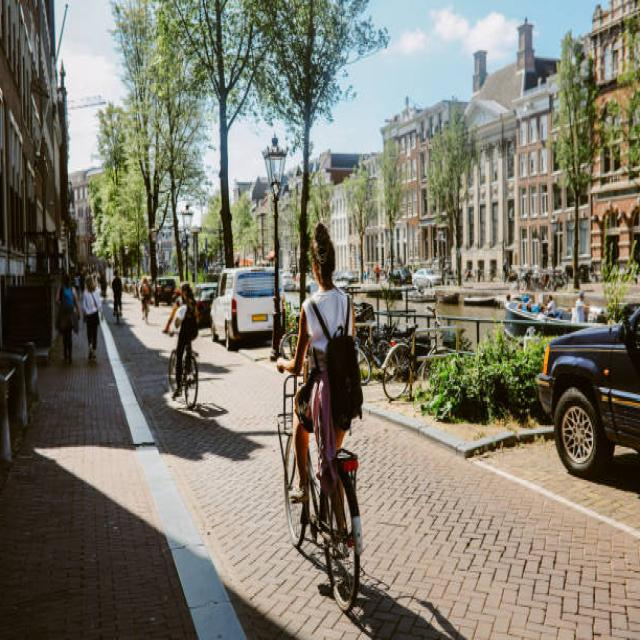bicycle: (278, 223, 362, 610)
